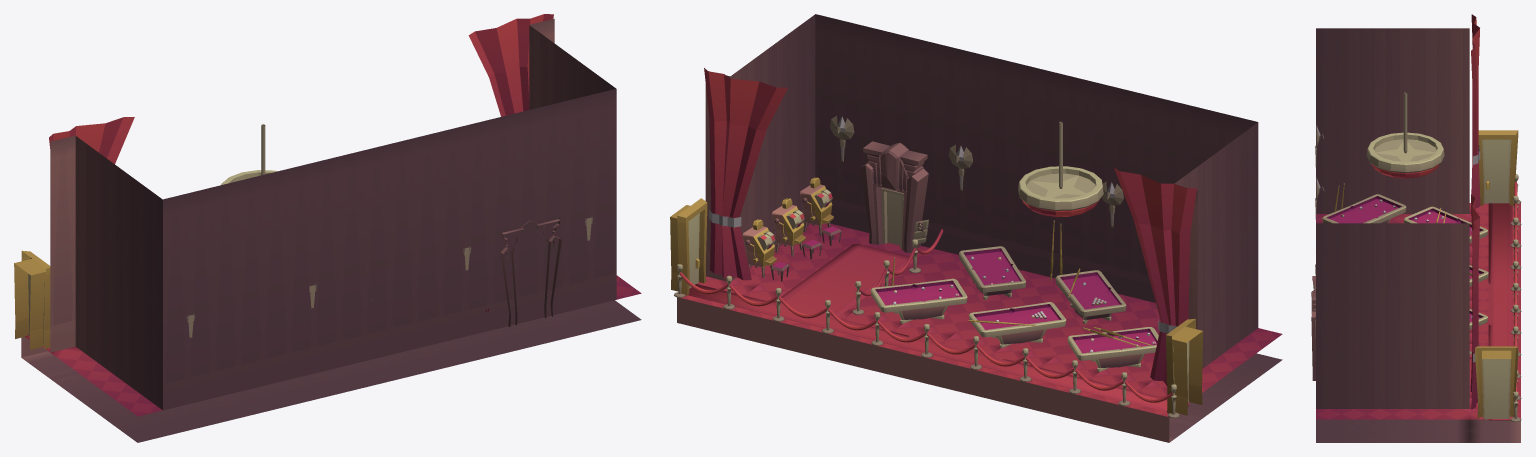
The model's file is SM_CasinoRoom-C.fbx.
3 views of the same model, side by side, from view 1: azimuth 30°, elevation 25°; view 2: azimuth 150°, elevation 25°; view 3: azimuth 270°, elevation 25° (orthographic). The views are drawn at different scales.
Visible parts, largest first — view 1: CasinoRoom_C; view 2: CasinoRoom_C; view 3: CasinoRoom_C.
Part boxes in pixels (box(x1,y1,x2,y2)): CasinoRoom_C: box(14, 14, 641, 442); CasinoRoom_C: box(670, 14, 1282, 442); CasinoRoom_C: box(1311, 14, 1521, 442).
Size of the model in its own units: 820 by 2100 by 913.
